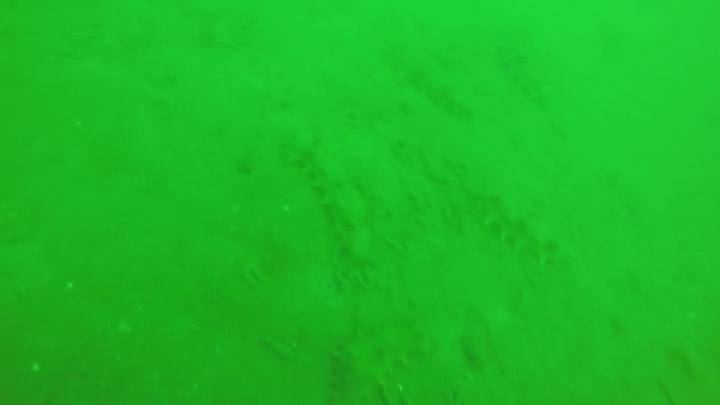holothurian: (280, 134, 378, 271), (327, 322, 429, 404), (472, 189, 576, 268), (381, 37, 477, 120), (493, 25, 554, 110)
